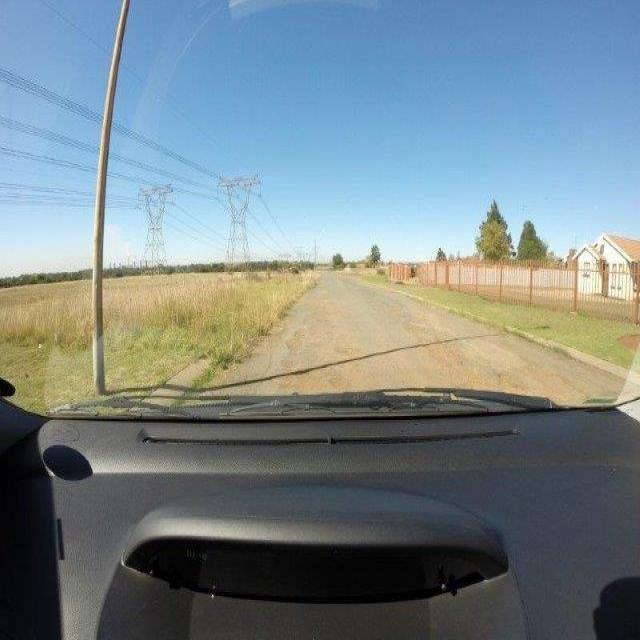lubang: (276, 362, 347, 392), (284, 326, 310, 356), (493, 365, 512, 390)
